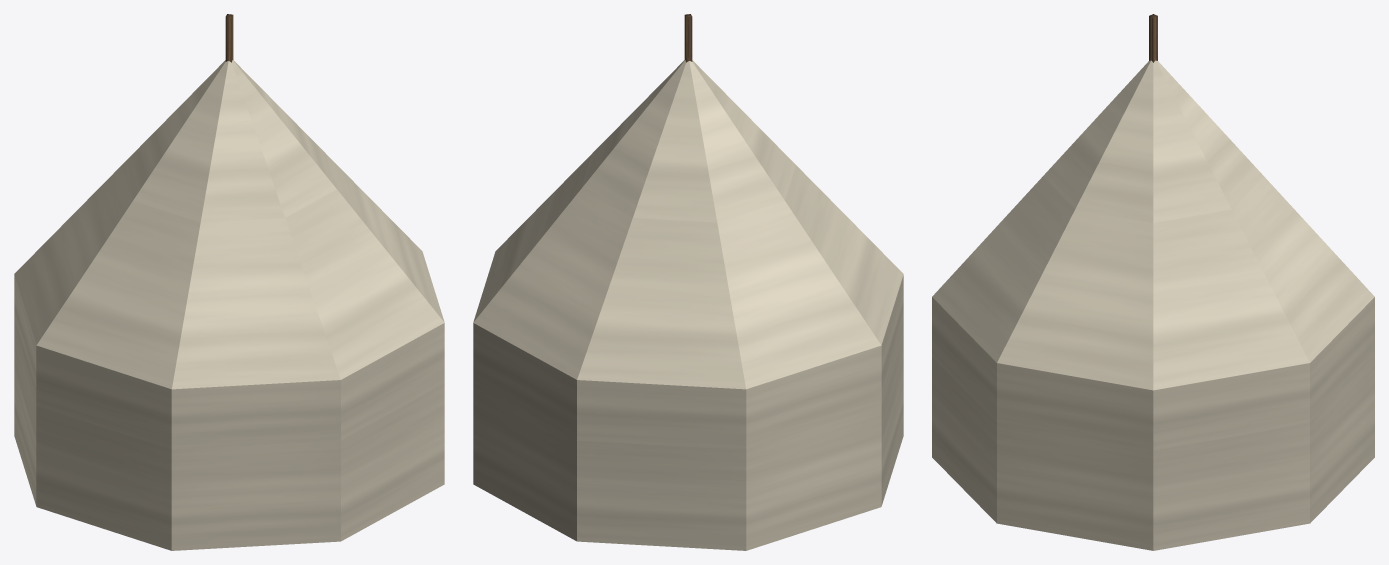
File: Tent_Pavilion_1_LOD1.gltf
The picture shows the model from 3 angles, left to right: view 1: azimuth 30°, elevation 25°; view 2: azimuth 150°, elevation 25°; view 3: azimuth 270°, elevation 25°; orthographic projection.
Visible parts, largest first — view 1: Tent_Pavilion_1_LOD1; view 2: Tent_Pavilion_1_LOD1; view 3: Tent_Pavilion_1_LOD1.
Boxes of the visible parts, left/top/right/bottom form: Tent_Pavilion_1_LOD1: left=14, top=14, right=444, bottom=550; Tent_Pavilion_1_LOD1: left=473, top=14, right=903, bottom=550; Tent_Pavilion_1_LOD1: left=932, top=14, right=1374, bottom=550.
Bounding box in the file's own units: 4 × 4.4 × 4.
2 materials, 2 textured.
